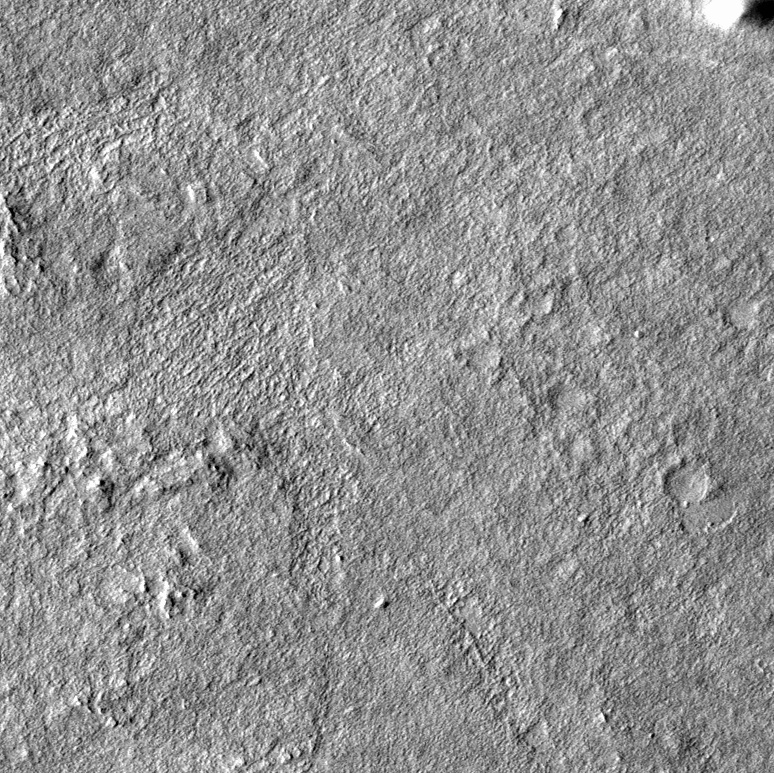dust_devil: (700, 1, 774, 34)
